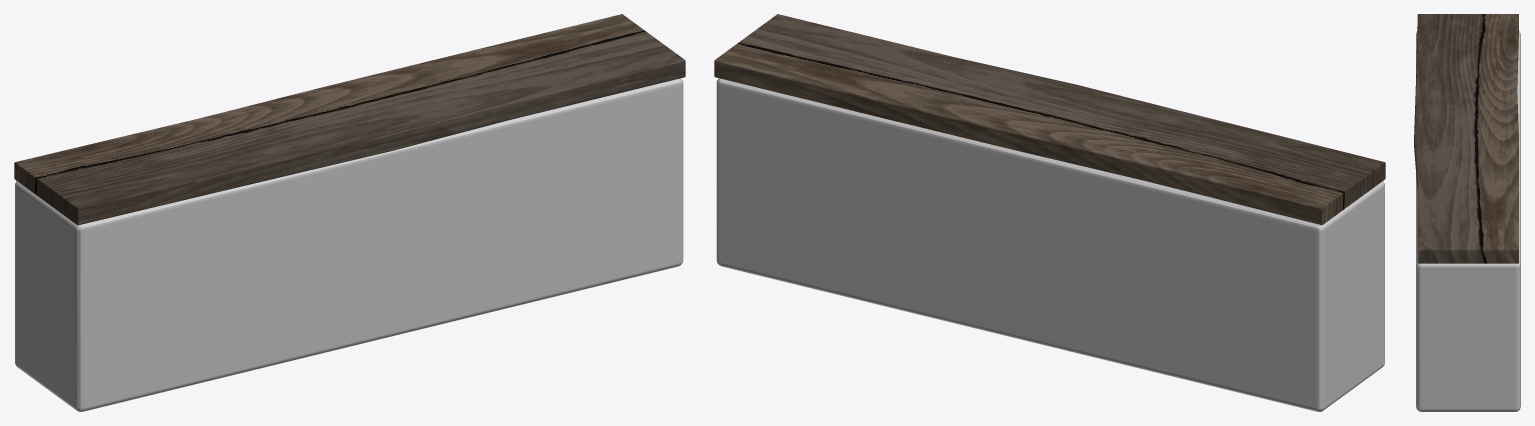
Rendered from SM_Foundation.fbx.
3 views of the same model, side by side, from view 1: azimuth 30°, elevation 25°; view 2: azimuth 150°, elevation 25°; view 3: azimuth 270°, elevation 25° (orthographic). The views are drawn at different scales.
Visible parts, largest first — view 1: SM_Foundation; view 2: SM_Foundation; view 3: SM_Foundation.
Boxes of the visible parts, left/top/right/bottom form: SM_Foundation: left=14, top=14, right=685, bottom=411; SM_Foundation: left=714, top=14, right=1385, bottom=411; SM_Foundation: left=1414, top=14, right=1520, bottom=411.
Bounding box in the file's own units: 320 × 104 × 61.12.
